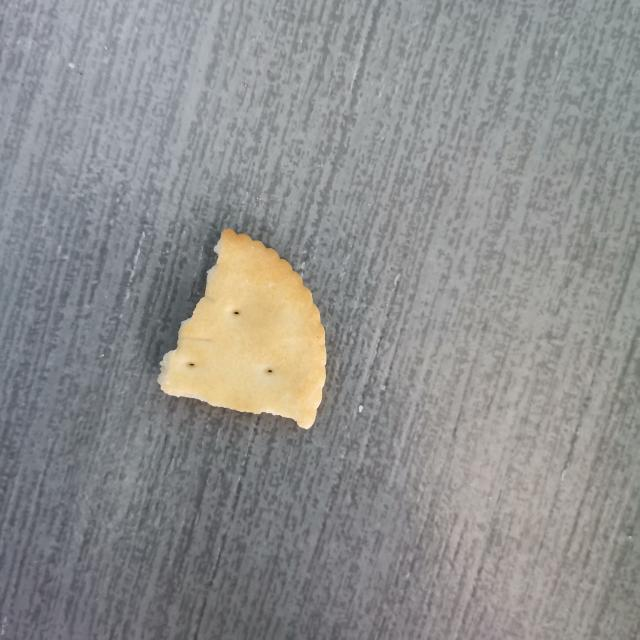Broken: (156, 227, 328, 430)
